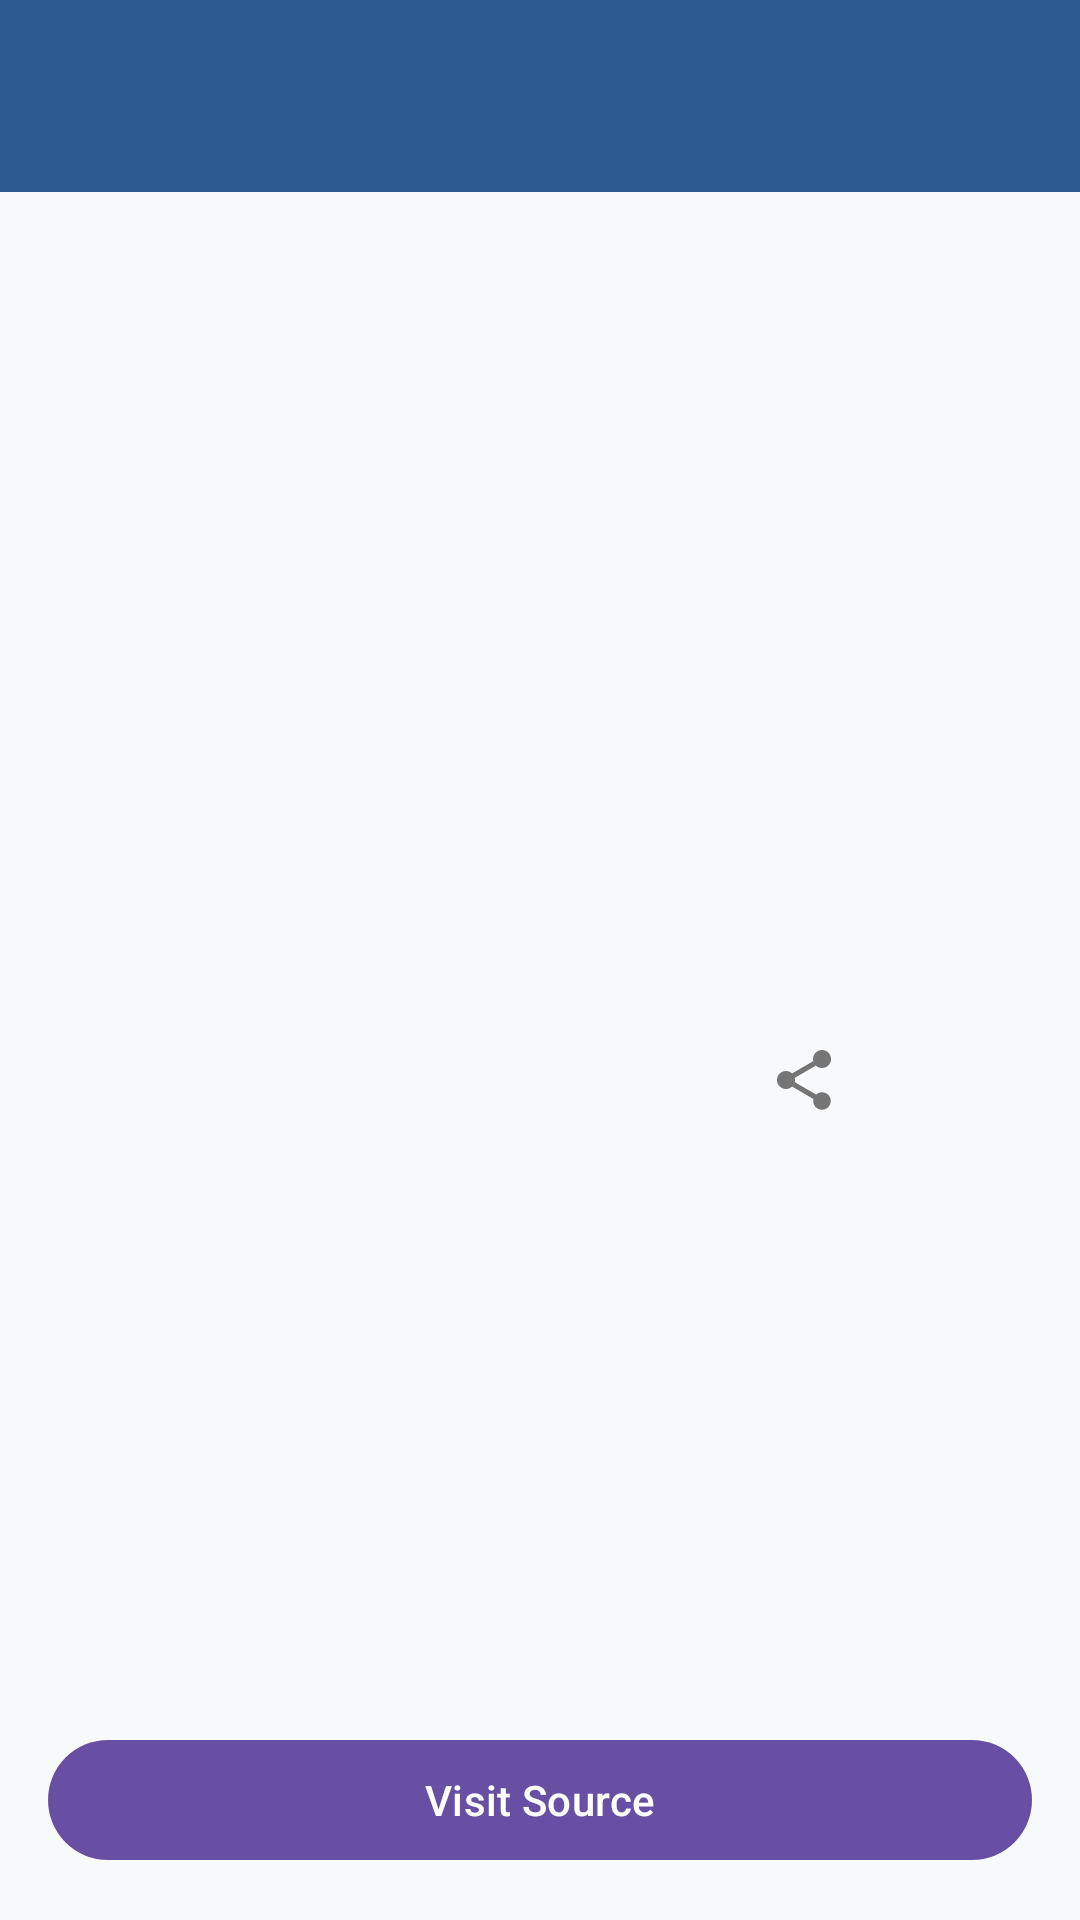

Named icons in this screenshot (1080w x 1920h) and their bounding boxes, (x1, y1, x2, y2):
share: (777, 1050, 831, 1110)
